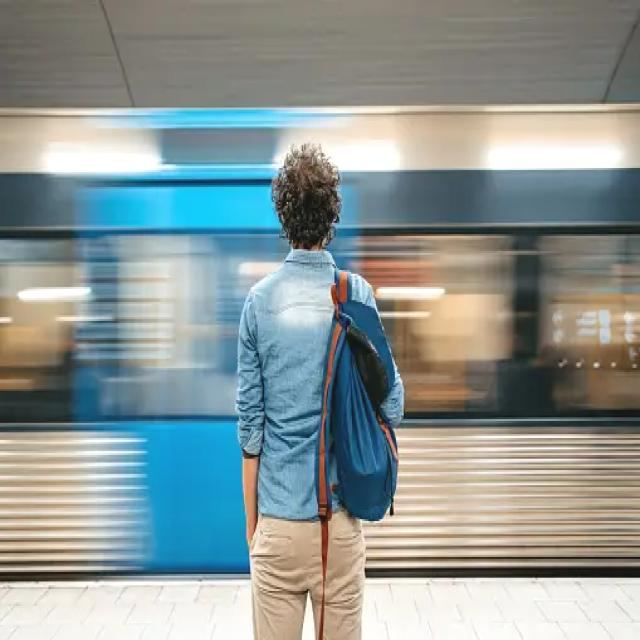backpack: (325, 269, 401, 522)
